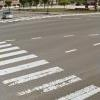Crosswalk: (3, 36, 86, 100)
